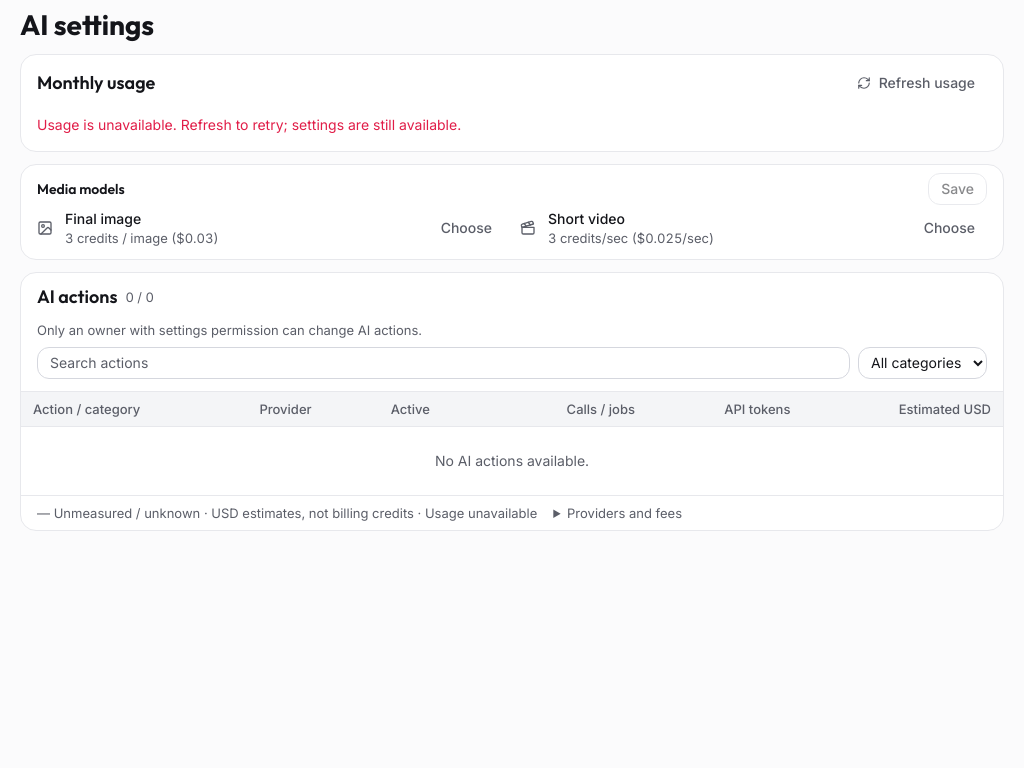
AiModelsPage › offers the platform default as an option and selects it when nothing is stored
Click the button with aria-label "Choose video model".
click(949, 228)  # box [912, 212, 987, 244]
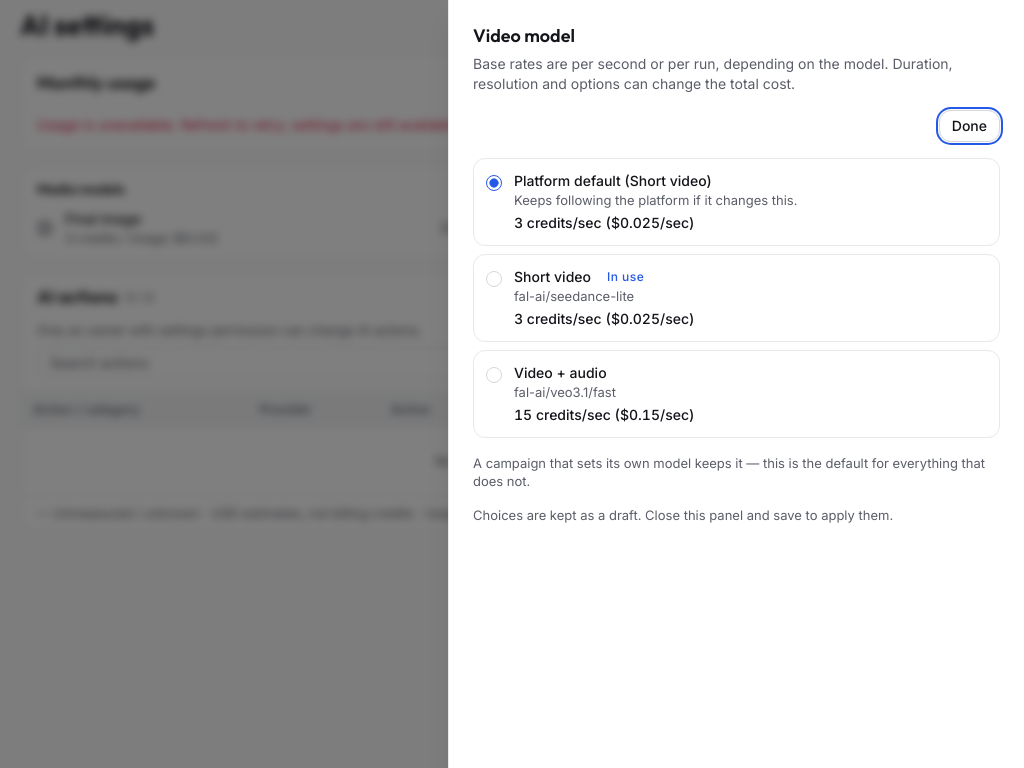
Now the dialog "Video model" is shown, box [448, 0, 1023, 767]
